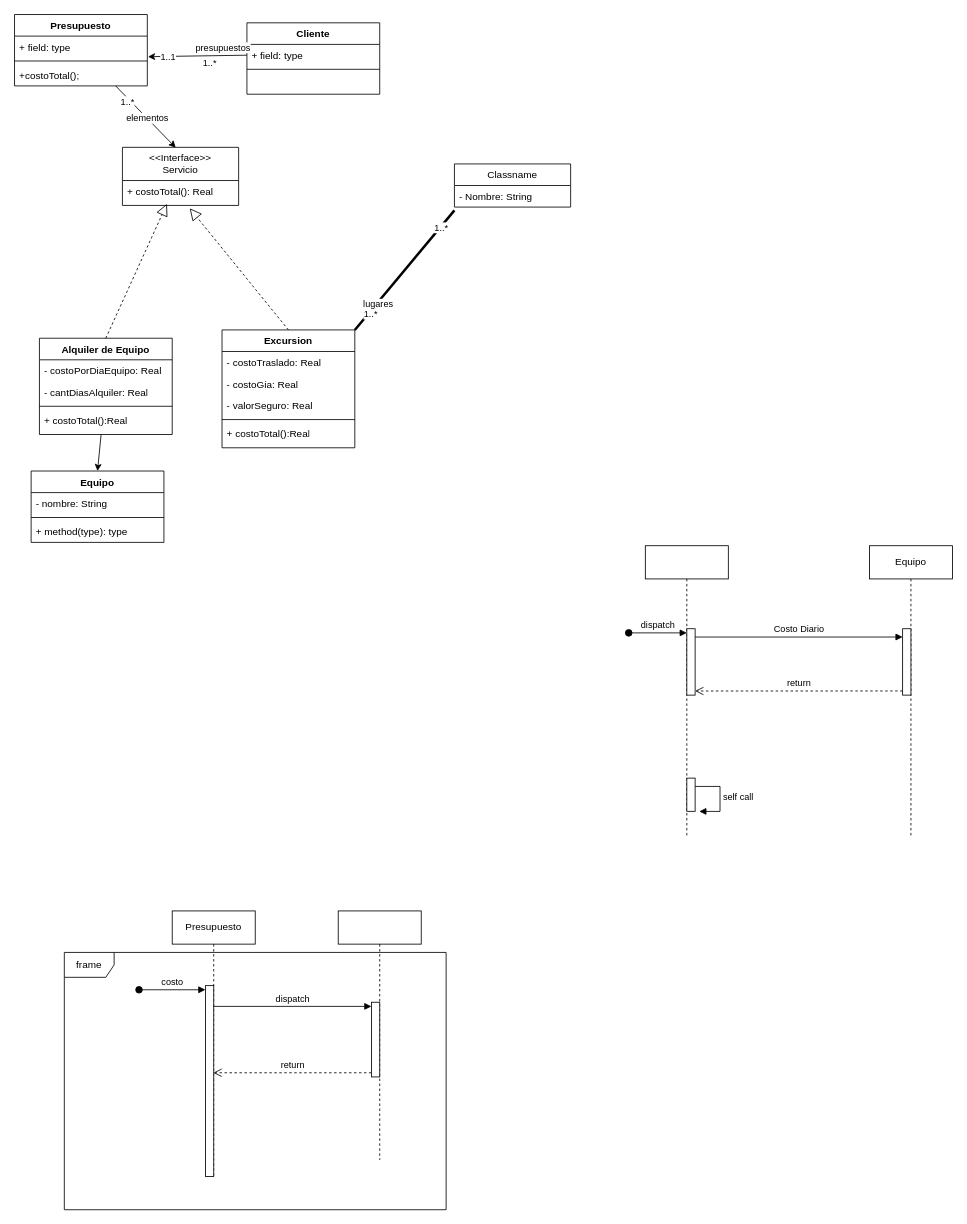
This 967x1224 diagram has some shape labels left out. The centre of each missing label's shape, as x and y in pixels:
"Alquiler" goes at [686,690].
"Servicio" goes at [379,1035].
